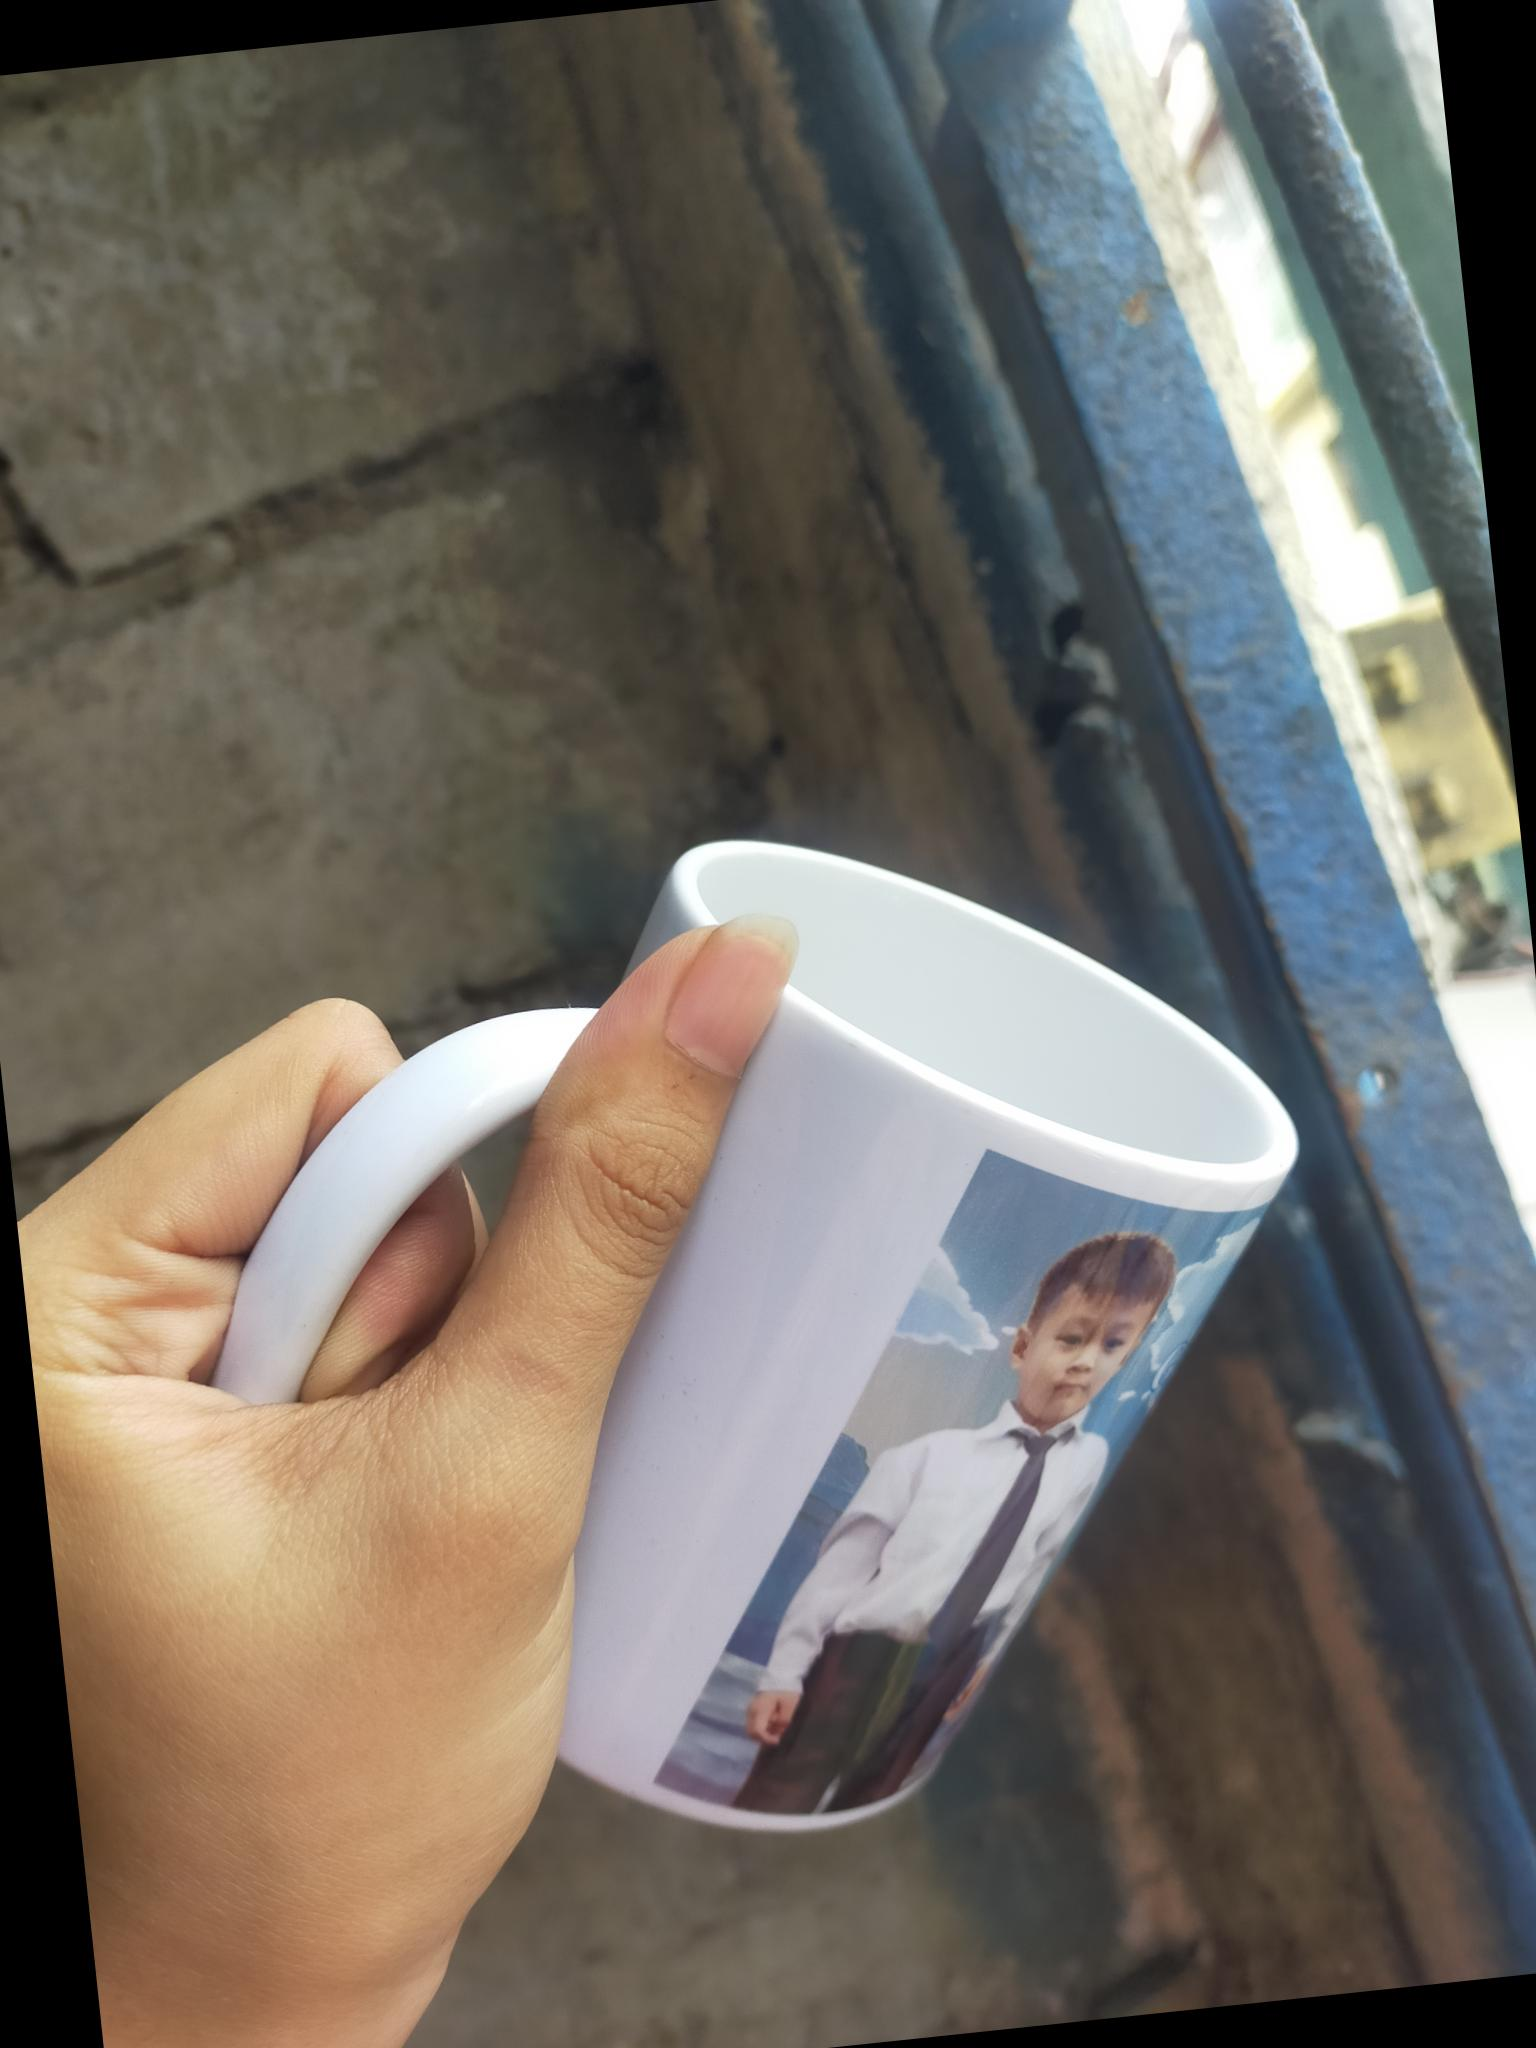Coffee Mug: (174, 787, 1363, 1884)
